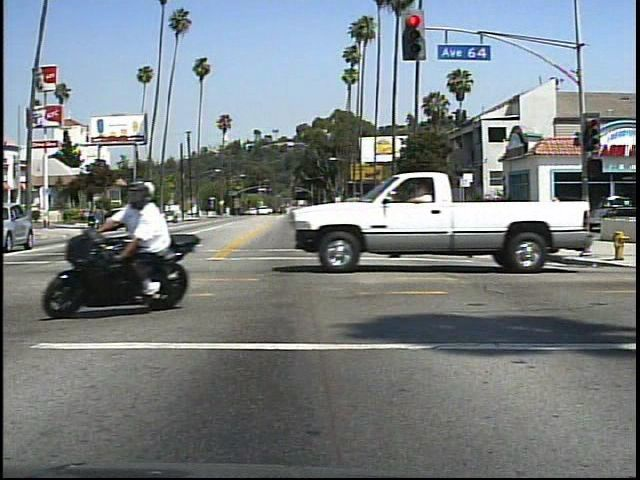person: (112, 177, 190, 311), (542, 193, 570, 246)
